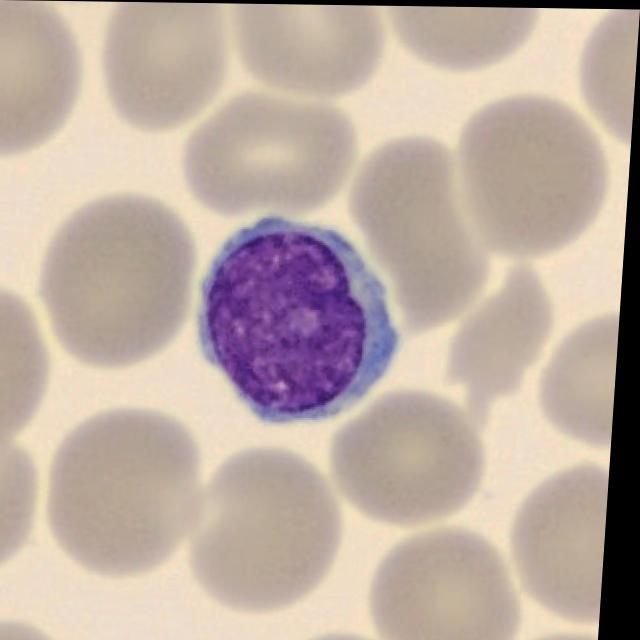Linfocito atipico: (204, 212, 407, 419)
